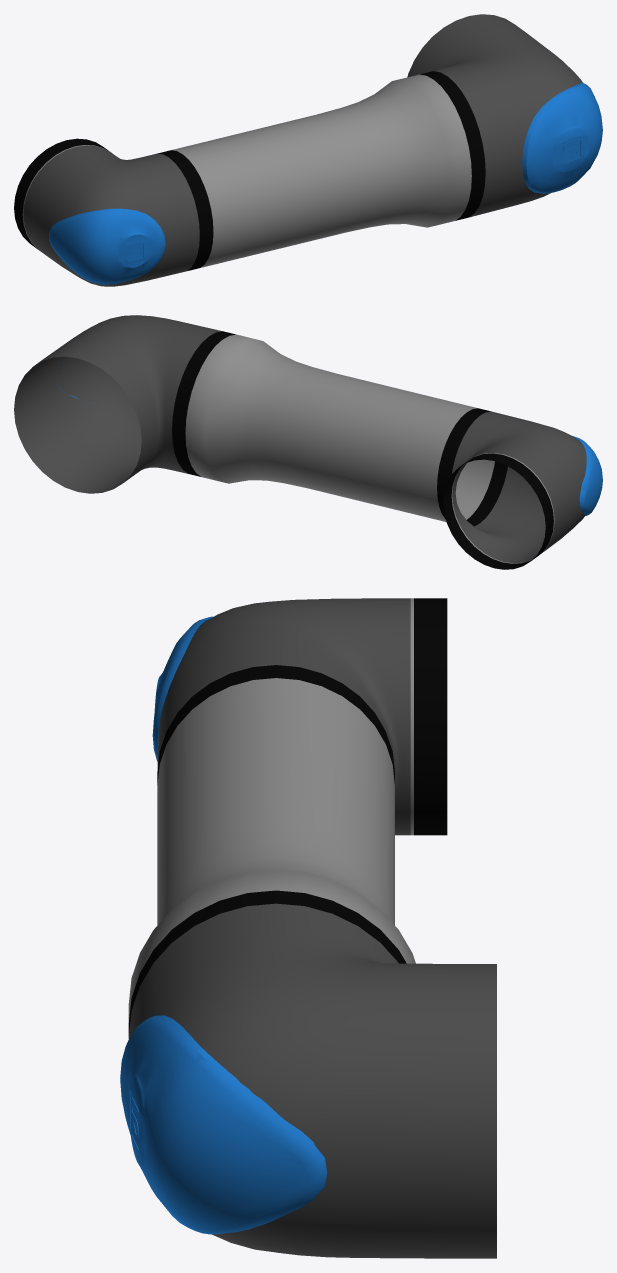
Rendered from upperarm.dae.
3 views of the same model, one above another, from view 1: azimuth 30°, elevation 25°; view 2: azimuth 150°, elevation 25°; view 3: azimuth 270°, elevation 25° (orthographic). The views are drawn at different scales.
Visible parts, largest first — view 1: shoulder, shoulder_pad_Logo_002.002, shoulder_pad_Logo.001; view 2: shoulder, shoulder_pad_Logo_002.002; view 3: shoulder, shoulder_pad_Logo.001, shoulder_pad_Logo_002.002.
Part boxes in pixels (bbox=[...]): shoulder: bbox=[14, 14, 582, 286]; shoulder_pad_Logo_002.002: bbox=[49, 208, 165, 284]; shoulder_pad_Logo.001: bbox=[522, 83, 602, 193]; shoulder: bbox=[14, 315, 586, 569]; shoulder_pad_Logo_002.002: bbox=[573, 436, 602, 515]; shoulder: bbox=[128, 598, 496, 1258]; shoulder_pad_Logo.001: bbox=[120, 1015, 327, 1234]; shoulder_pad_Logo_002.002: bbox=[152, 616, 213, 761].
Bounding box in the file's own units: 0.6144 × 0.1916 × 0.15.
